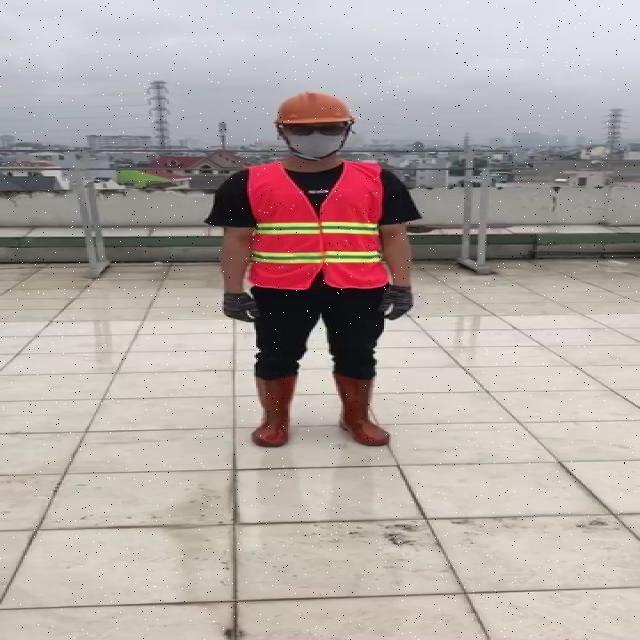Hard_hat: (267, 86, 362, 134)
Person: (197, 92, 432, 470)
Vest: (242, 157, 386, 293)
